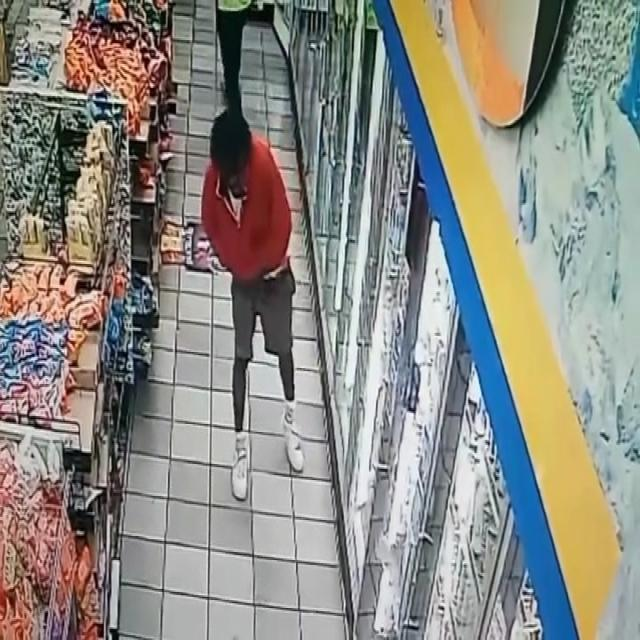Shoplifting: (200, 109, 318, 502)
